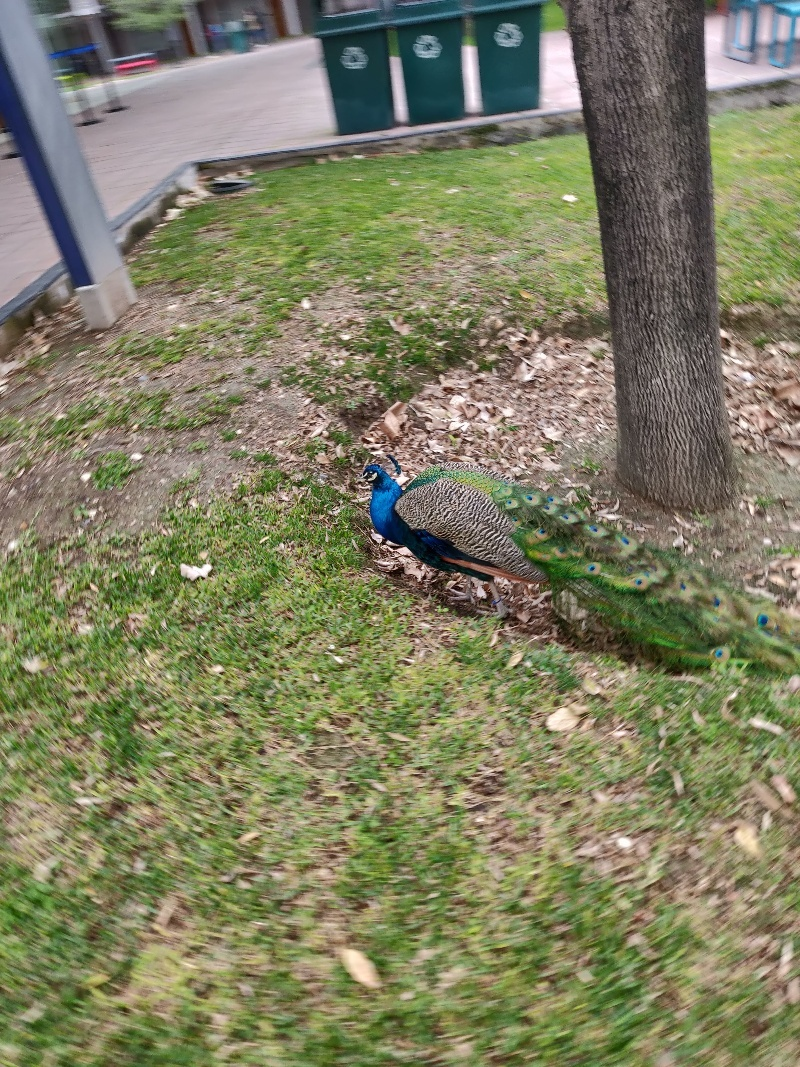pavoreal: (361, 461, 509, 586)
